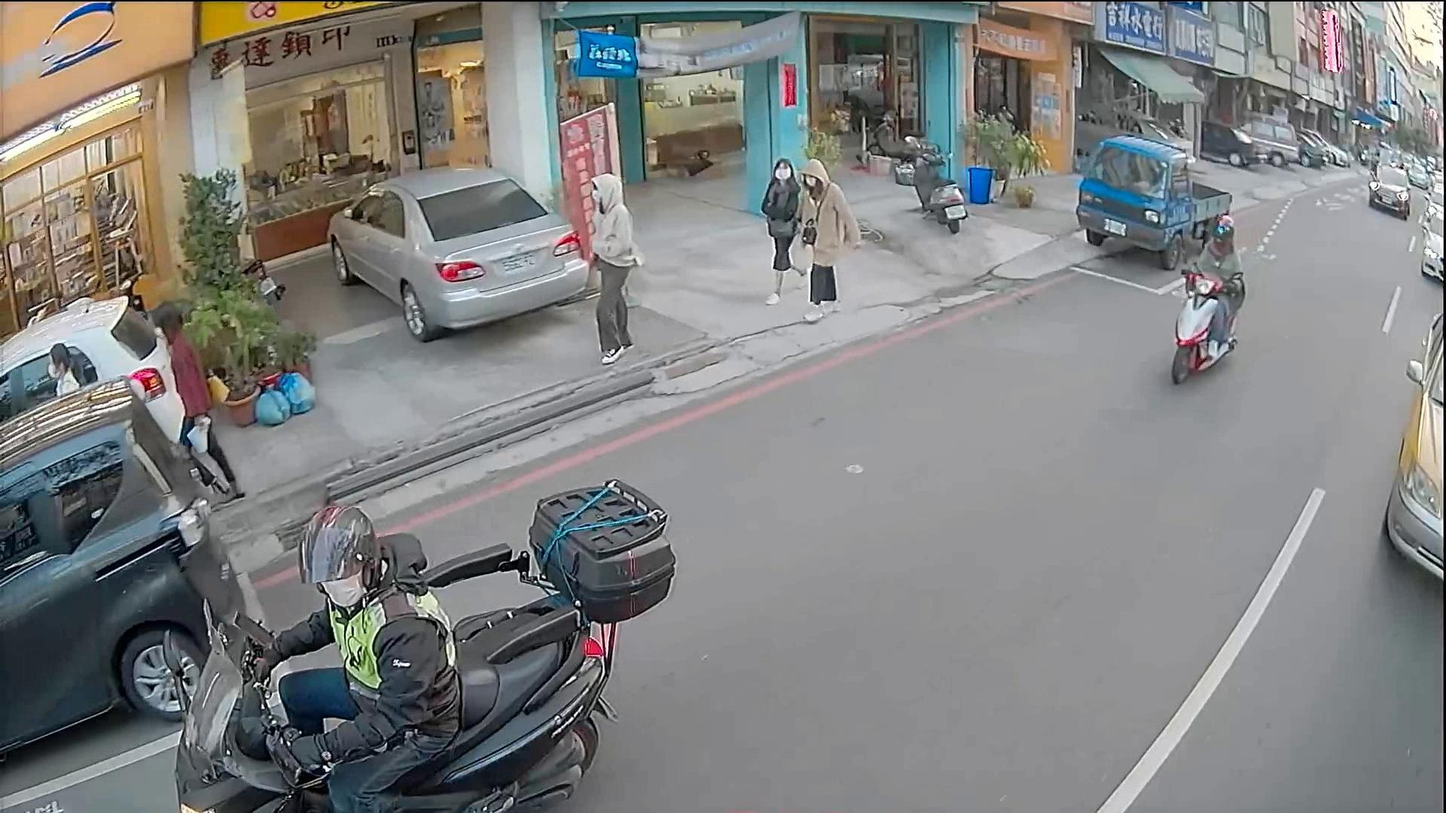person: (241, 485, 465, 812), (140, 299, 247, 499), (577, 168, 642, 360), (783, 157, 863, 312), (1173, 208, 1244, 366), (756, 156, 813, 303), (35, 341, 88, 402)
